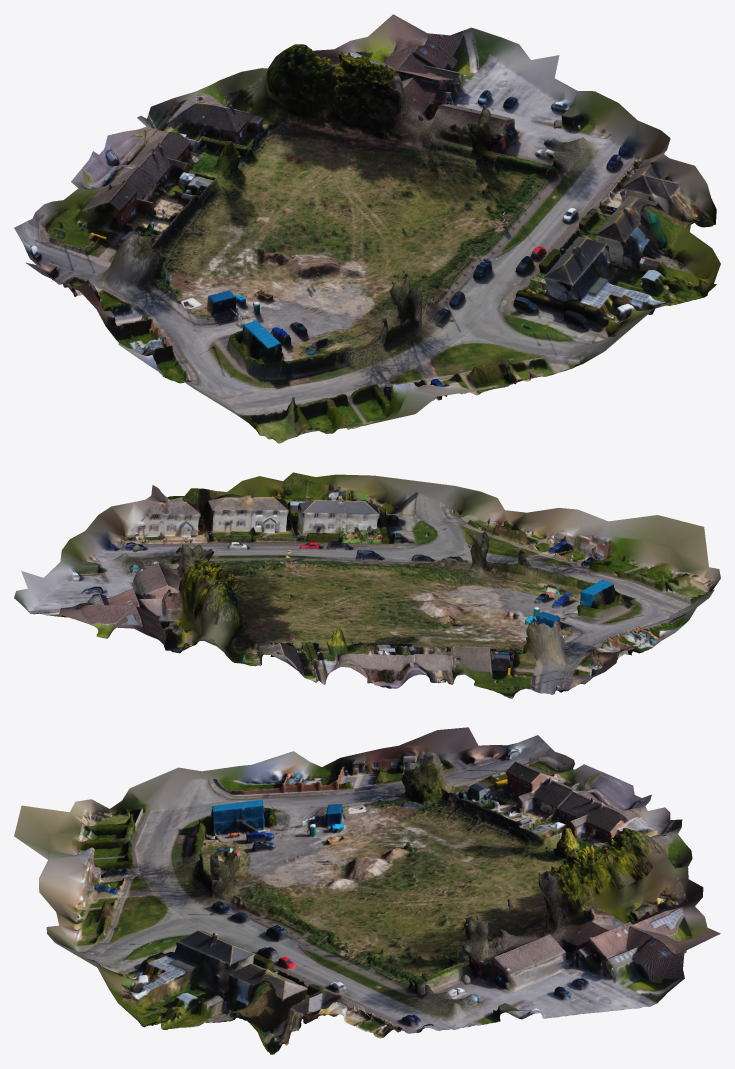
File: buildscan-ludgershall-public.glb
3 renders of one model, top to bottom at view 1: azimuth 30°, elevation 25°; view 2: azimuth 150°, elevation 25°; view 3: azimuth 270°, elevation 25°, orthographic. The views are drawn at different scales.
Bounding box in the file's own units: 32.11 × 6.85 × 32.18.
Materials: 1 (1 with a texture image).
